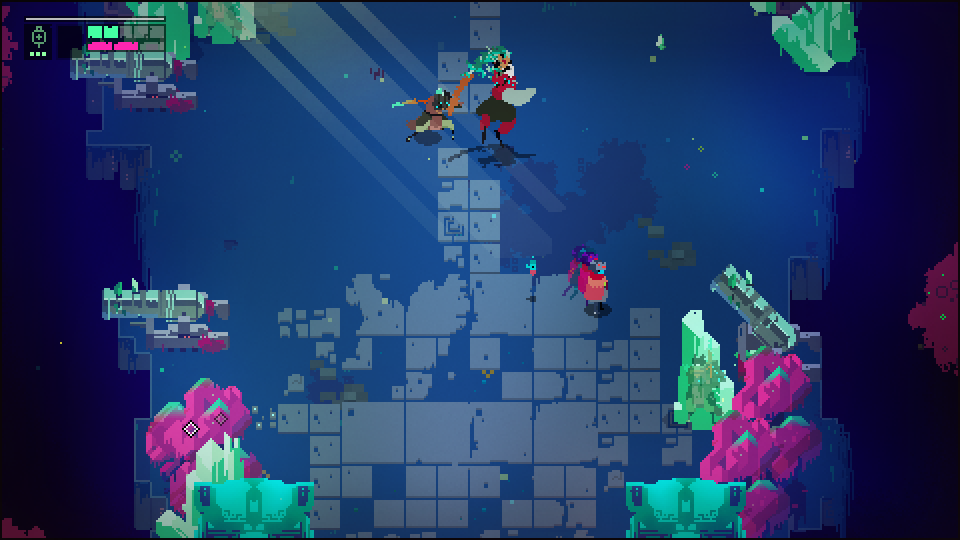hanged_man: (449, 44, 535, 144)
player: (583, 257, 609, 312)
